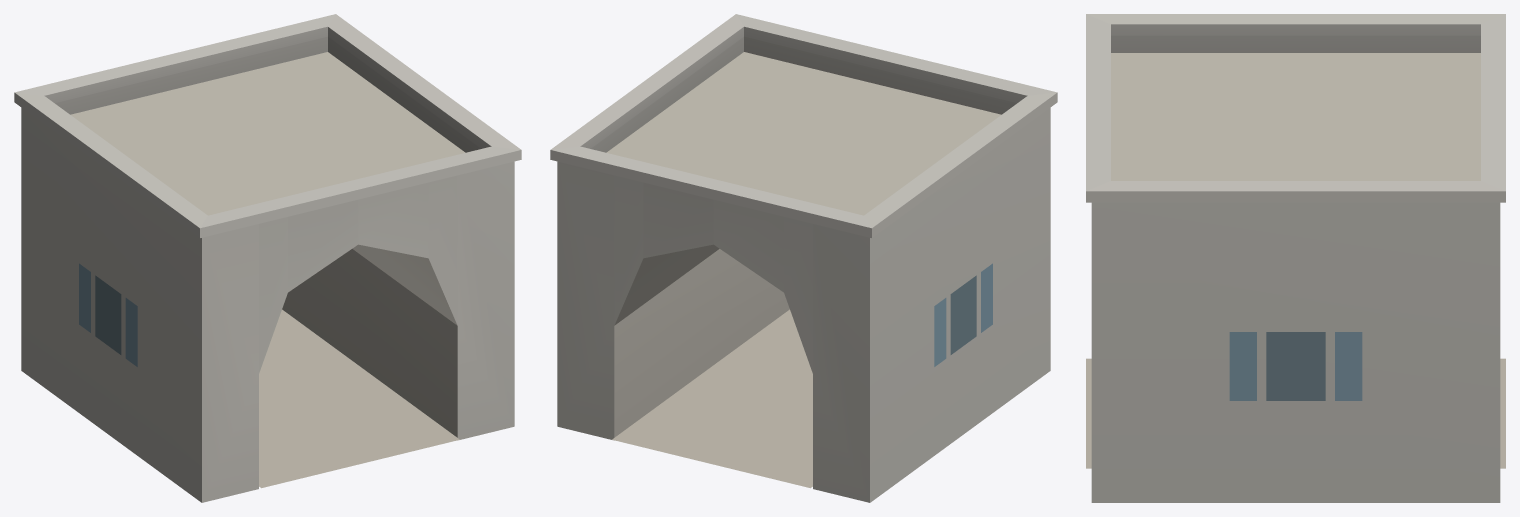
The model's file is arch.lod2.glb.
3 views of the same model, side by side, from view 1: azimuth 30°, elevation 25°; view 2: azimuth 150°, elevation 25°; view 3: azimuth 270°, elevation 25° (orthographic). The views are drawn at different scales.
Bounding box in the file's own units: 4.4 × 3.63 × 4.4.
